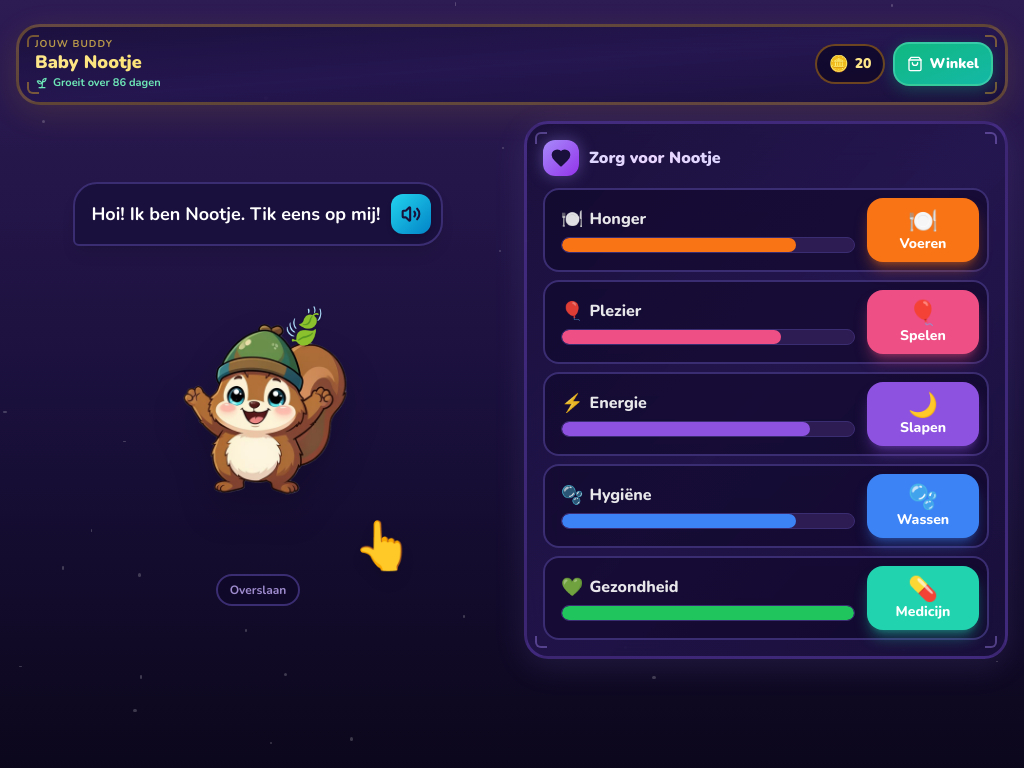
Scenario: BuddyRoom — first-visit tour › can be skipped and then stays away
Click the button "Overslaan" at (258, 590), box [216,574,300,606]
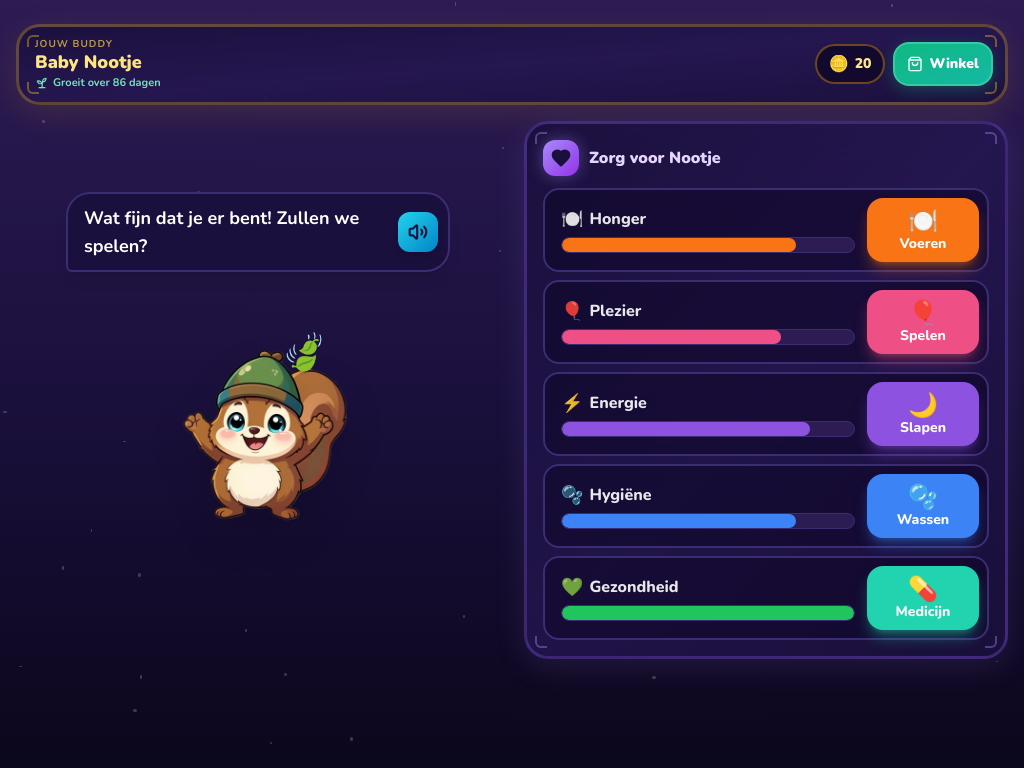
Expected: the button with aria-label "Lees voor" no longer shows "Tik eens op mij", [66,192,450,272]
